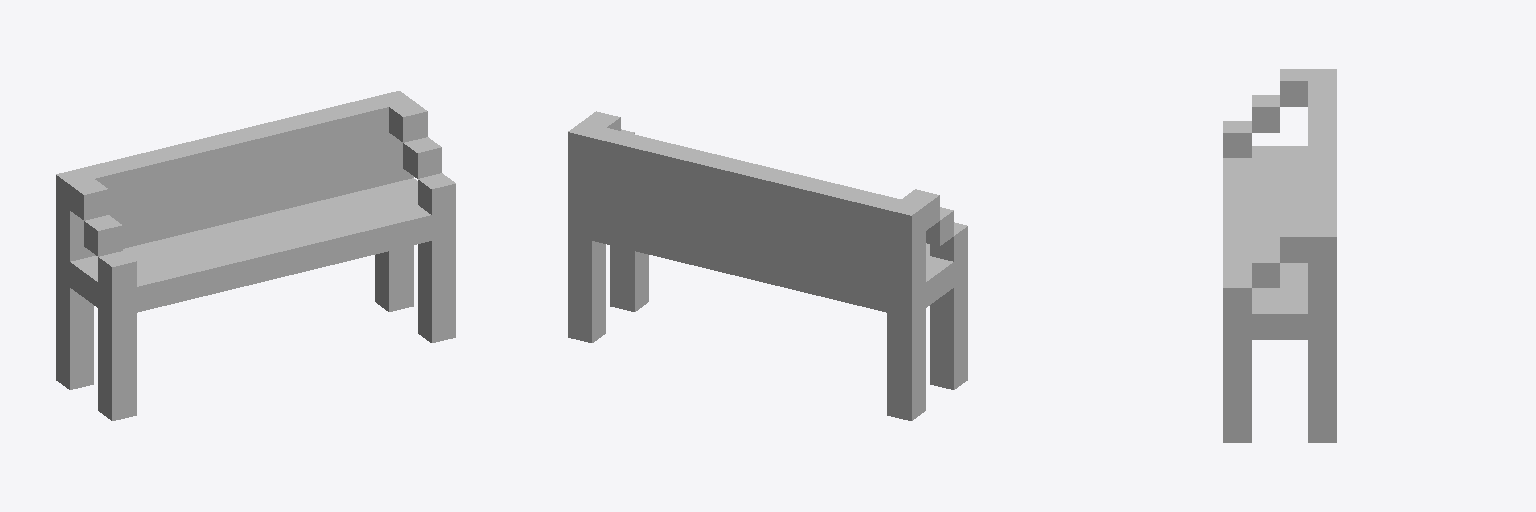
Rendered from banco.obj.
3 renders of one model, left to right at view 1: azimuth 30°, elevation 25°; view 2: azimuth 150°, elevation 25°; view 3: azimuth 270°, elevation 25°, orthographic.
Parts seen in each view (by area): view 1: banco; view 2: banco; view 3: banco.
Part boxes in pixels (x1,y1,x2,y2): banco: (56, 91, 455, 420); banco: (568, 111, 967, 420); banco: (1223, 69, 1336, 442).
Size of the model in its own units: 14 by 8 by 4.